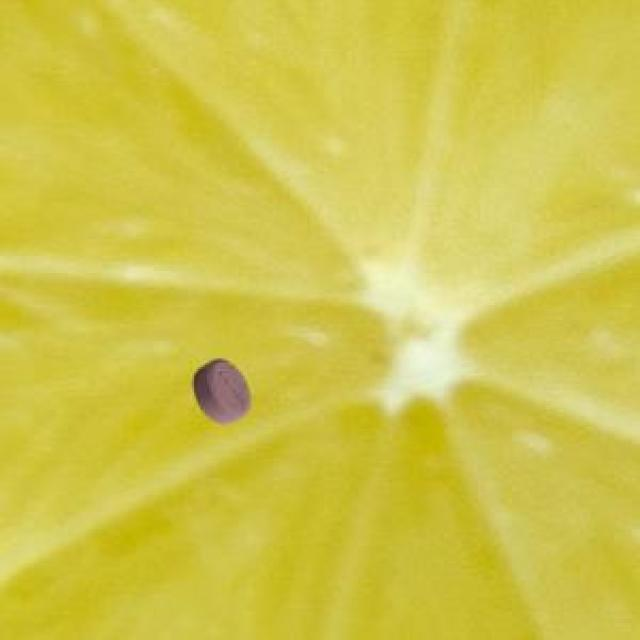Kremil_S: (186, 352, 260, 433)
